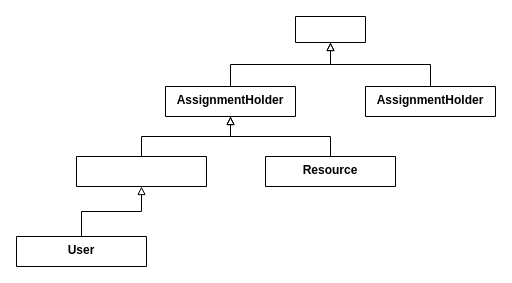
This 512x283 diagram has some shape labels left out. The centre of each missing label's shape, as x and y in pixels:
"Focus" goes at [141,171].
"Object" goes at [330,29].
